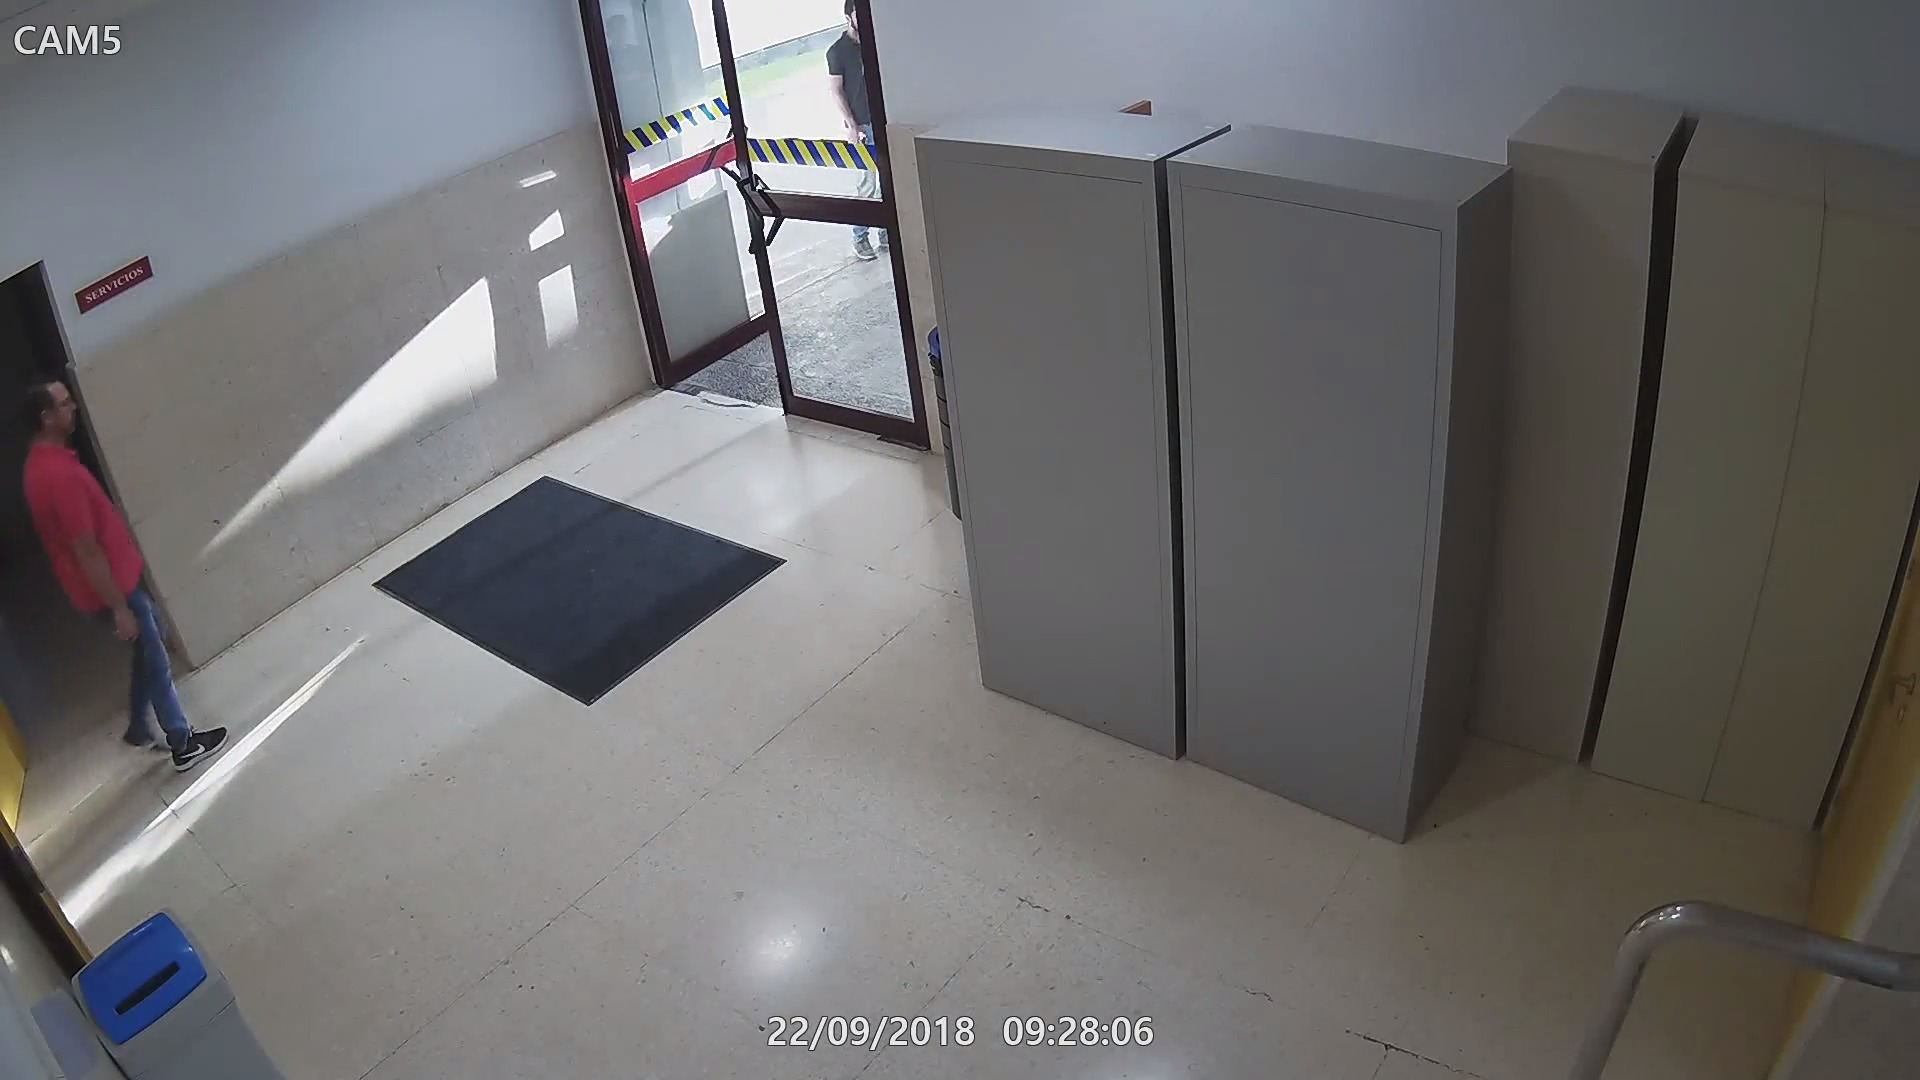Handgun: (107, 608, 164, 676)
